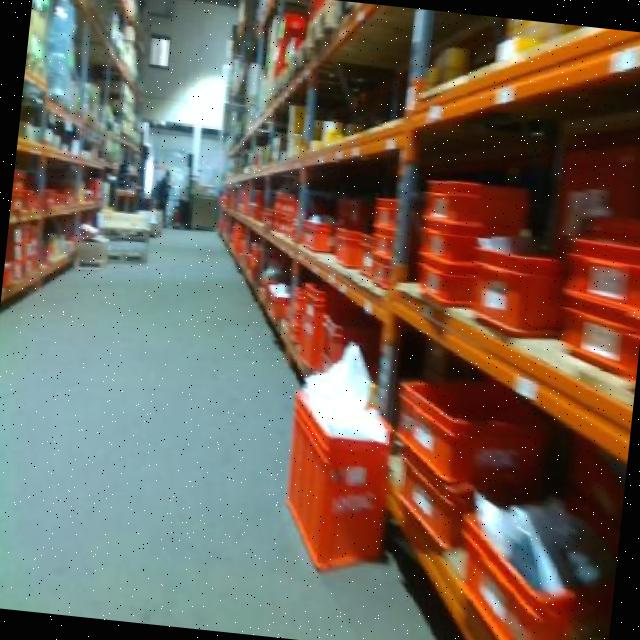pallet: (94, 222, 150, 245), (95, 246, 152, 268), (66, 254, 110, 276)
